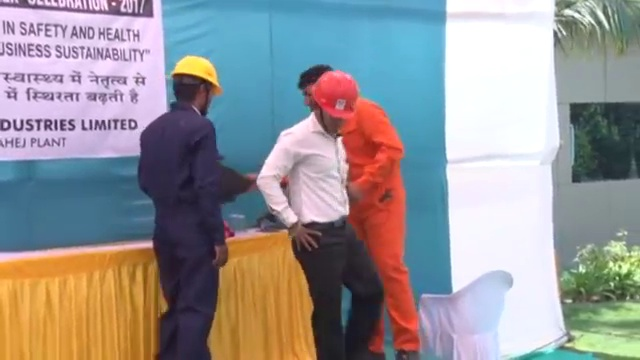helmet: (311, 68, 361, 120), (169, 52, 223, 95)
helmet_off: (299, 63, 332, 113)
helmet_on: (168, 51, 224, 117), (309, 68, 361, 139)
person: (300, 61, 426, 360), (260, 67, 384, 360), (135, 52, 232, 360)
